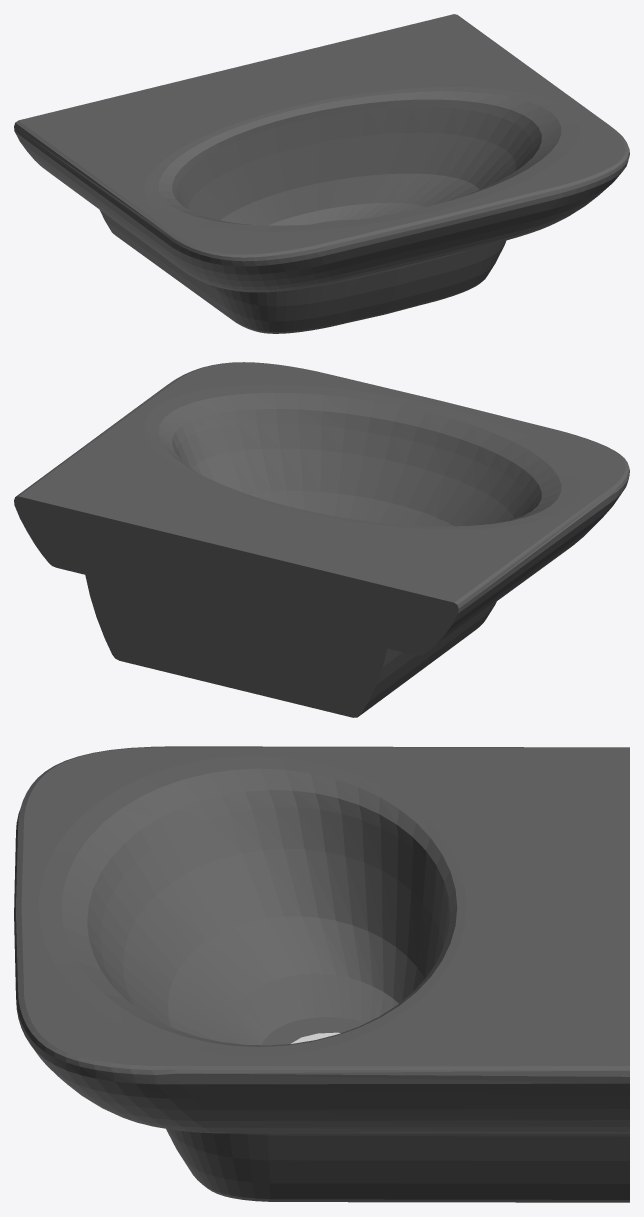
File: AEC_43545.glb
The picture shows the model from 3 angles, top to bottom: view 1: azimuth 30°, elevation 25°; view 2: azimuth 150°, elevation 25°; view 3: azimuth 270°, elevation 25°; orthographic projection. The views are drawn at different scales.
Parts seen in each view (by area): view 1: 0; view 2: 0; view 3: 0.
Boxes of the visible parts, bbox=[...] form: 0: bbox=[14, 14, 629, 333]; 0: bbox=[14, 362, 629, 717]; 0: bbox=[14, 746, 629, 1202].
Bounding box in the file's own units: 0.45 × 0.135 × 0.36.
Materials: 1 (1 with a texture image).
